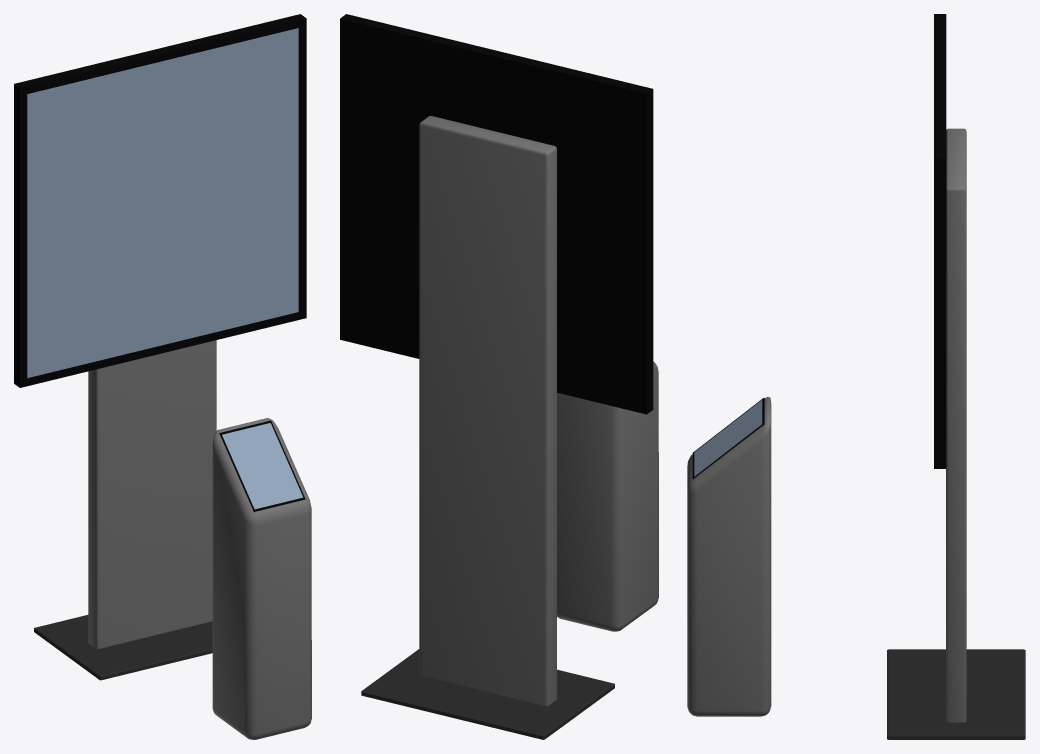
Rendered from display.glb.
The picture shows the model from 3 angles, left to right: view 1: azimuth 30°, elevation 25°; view 2: azimuth 150°, elevation 25°; view 3: azimuth 270°, elevation 25°; orthographic projection. The views are drawn at different scales.
Parts seen in each view (by area): view 1: Screen, Pillar-col, Info-col, Display-col, Cube, Info-Screen, Info-Display; view 2: Pillar-col, Display-col, Info-col, Cube; view 3: Info-col, Pillar-col, Cube, Display-col, Info-Screen.
Boxes of the visible parts, x1,y1,x2,y2 form: Screen: (27, 28, 298, 377); Pillar-col: (88, 340, 216, 648); Info-col: (212, 418, 311, 739); Display-col: (14, 14, 306, 387); Cube: (34, 615, 212, 680); Info-Screen: (222, 423, 303, 509); Info-Display: (219, 420, 305, 511); Pillar-col: (419, 116, 556, 706); Display-col: (340, 14, 653, 414); Info-col: (557, 361, 658, 631); Cube: (361, 649, 614, 739); Info-col: (687, 396, 771, 716); Pillar-col: (946, 128, 966, 722); Cube: (887, 649, 1025, 739); Display-col: (934, 14, 946, 468); Info-Screen: (694, 400, 762, 476).
Size of the model in its own units: 1.02 by 2.02 by 1.01.
